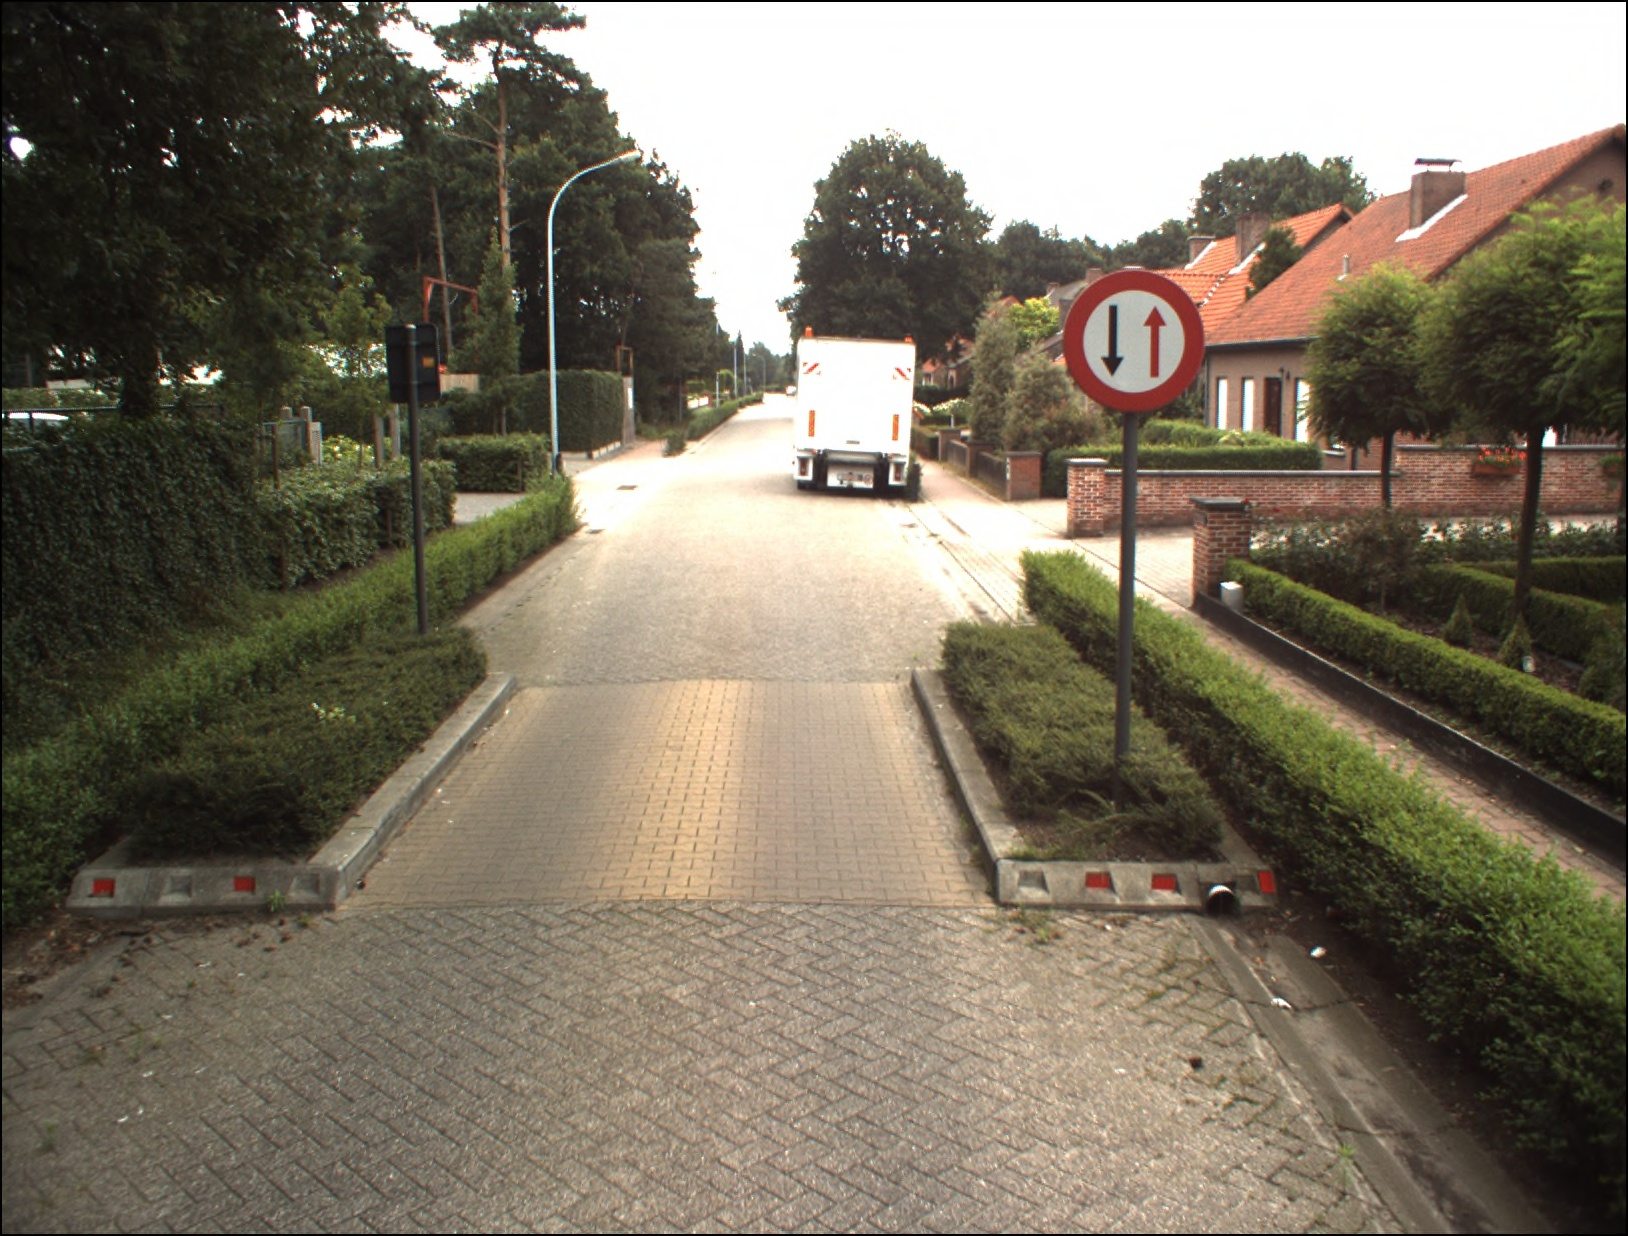roadnarrow2: (1066, 267, 1207, 409)
